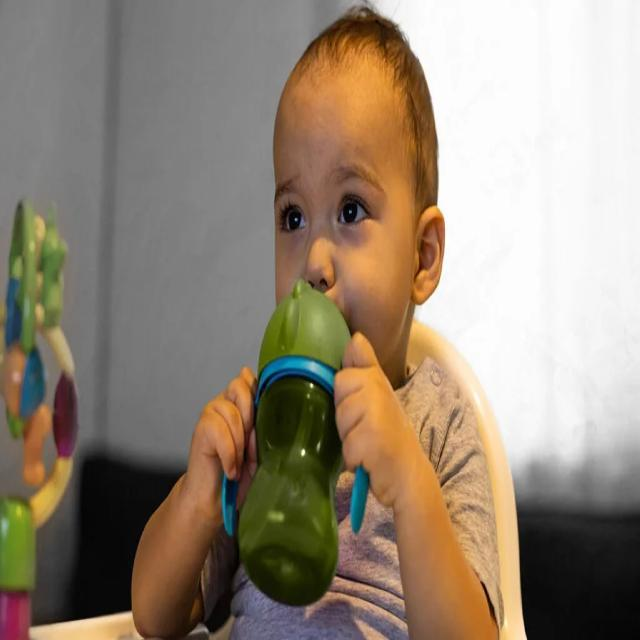child: (129, 5, 504, 640)
